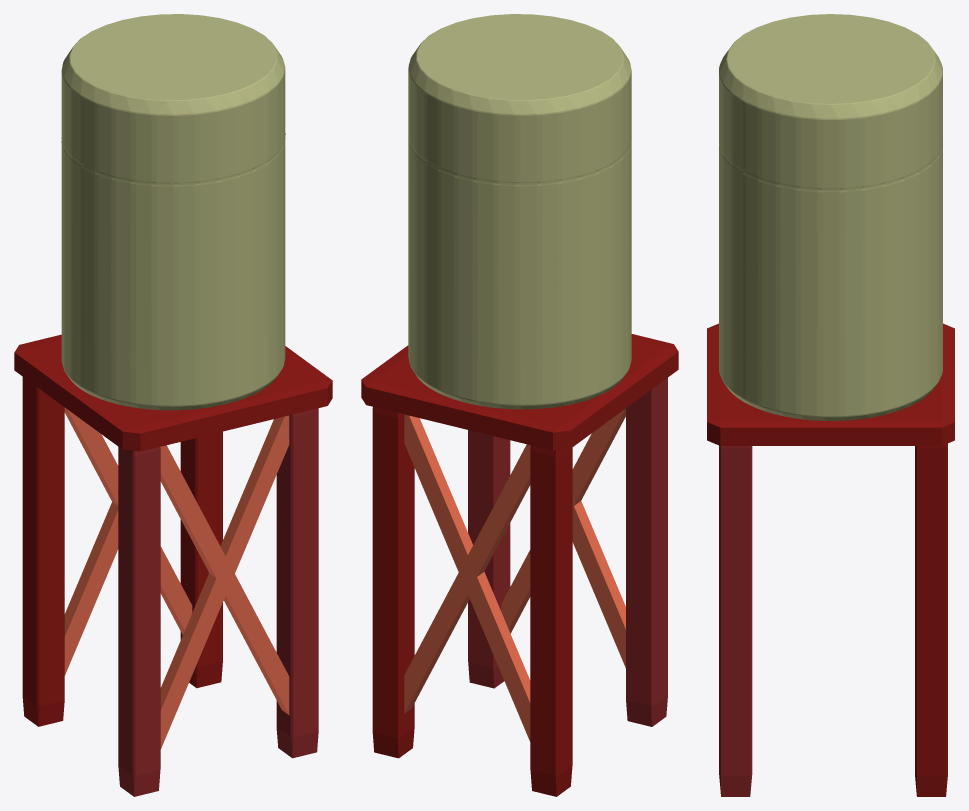
The model's file is tanque.glb.
3 views of the same model, side by side, from view 1: azimuth 30°, elevation 25°; view 2: azimuth 150°, elevation 25°; view 3: azimuth 270°, elevation 25° (orthographic). The views are drawn at different scales.
Parts seen in each view (by area): view 1: tanque, patas, patas2, X, base; view 2: tanque, patas2, patas, X, base; view 3: tanque, patas, patas2, base.
Boxes of the visible parts, left/top/right/bottom form: tanque: left=61, top=14, right=285, bottom=410; patas: left=118, top=408, right=318, bottom=796; patas2: left=22, top=377, right=222, bottom=726; X: left=64, top=407, right=289, bottom=749; base: left=14, top=334, right=332, bottom=451; tanque: left=408, top=14, right=631, bottom=409; patas2: left=372, top=407, right=572, bottom=796; patas: left=468, top=378, right=667, bottom=726; X: left=404, top=408, right=625, bottom=741; base: left=361, top=334, right=678, bottom=450; tanque: left=719, top=14, right=942, bottom=420; patas: left=719, top=445, right=752, bottom=796; patas2: left=915, top=443, right=947, bottom=796; base: left=707, top=323, right=954, bottom=445.
Size of the model in its own units: 10.33 by 31.85 by 10.33.
